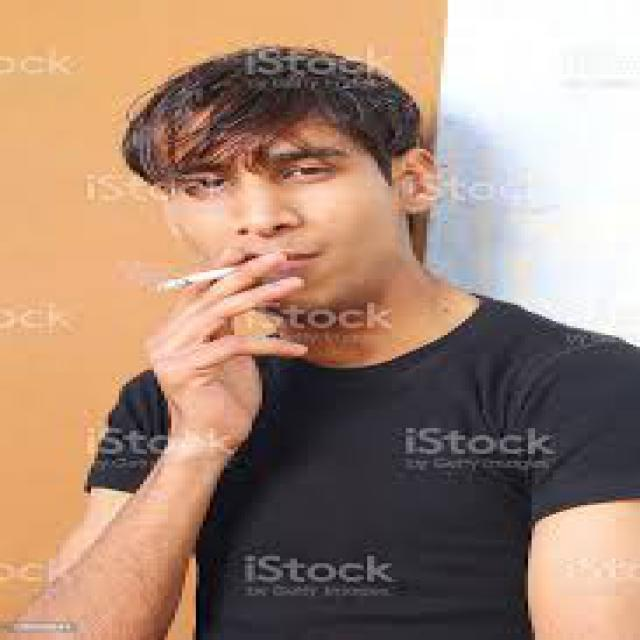smoking: (148, 254, 254, 298)
